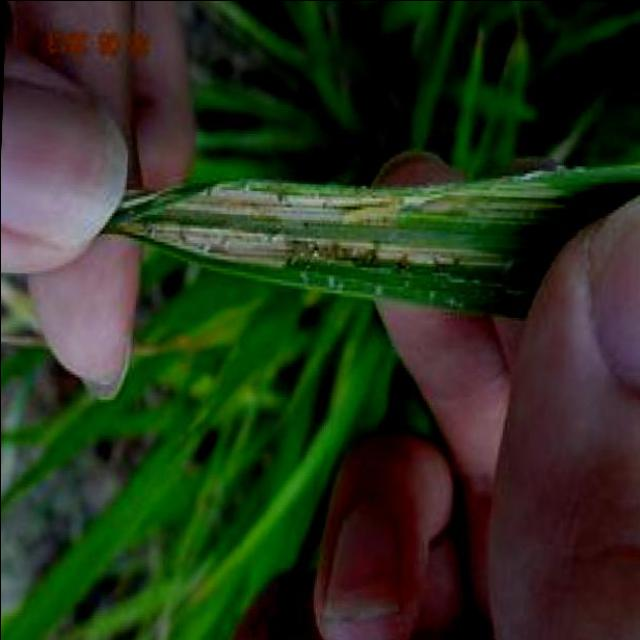leaf folder: (337, 199, 401, 226)
